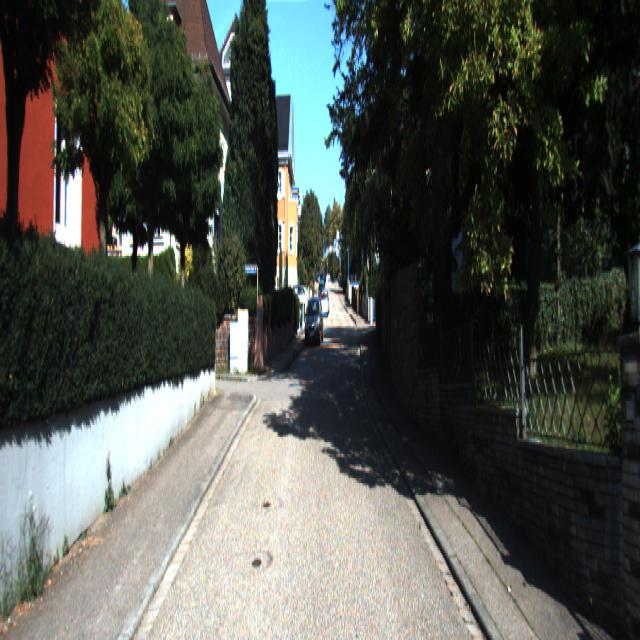Car: (304, 301, 325, 349)
